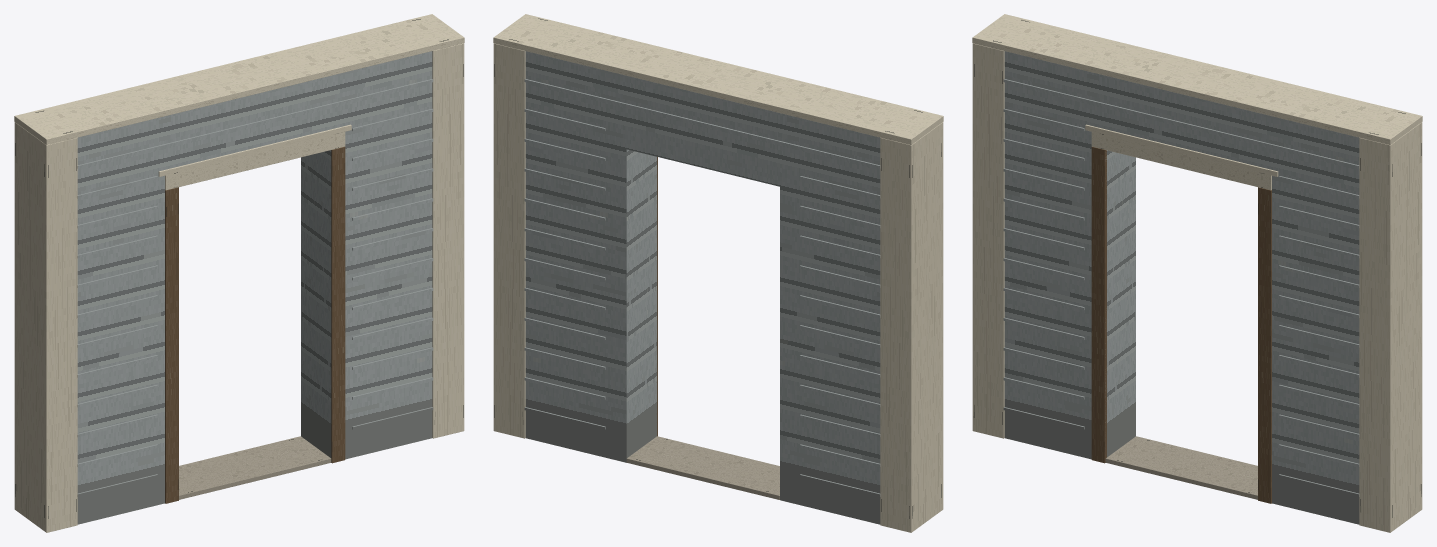
The model's file is house_02_wall_doorway.glb.
3 views of the same model, side by side, from view 1: azimuth 30°, elevation 25°; view 2: azimuth 150°, elevation 25°; view 3: azimuth 330°, elevation 25° (orthographic).
Parts seen in each view (by area): view 1: house_02_wall_doorway; view 2: house_02_wall_doorway; view 3: house_02_wall_doorway.
Boxes of the visible parts, x1,y1,x2,y2 form: house_02_wall_doorway: [14, 14, 464, 532]; house_02_wall_doorway: [493, 14, 943, 532]; house_02_wall_doorway: [972, 14, 1422, 532].
Size of the model in its own units: 3 by 2.7 by 0.4.
4 materials, 4 textured.
